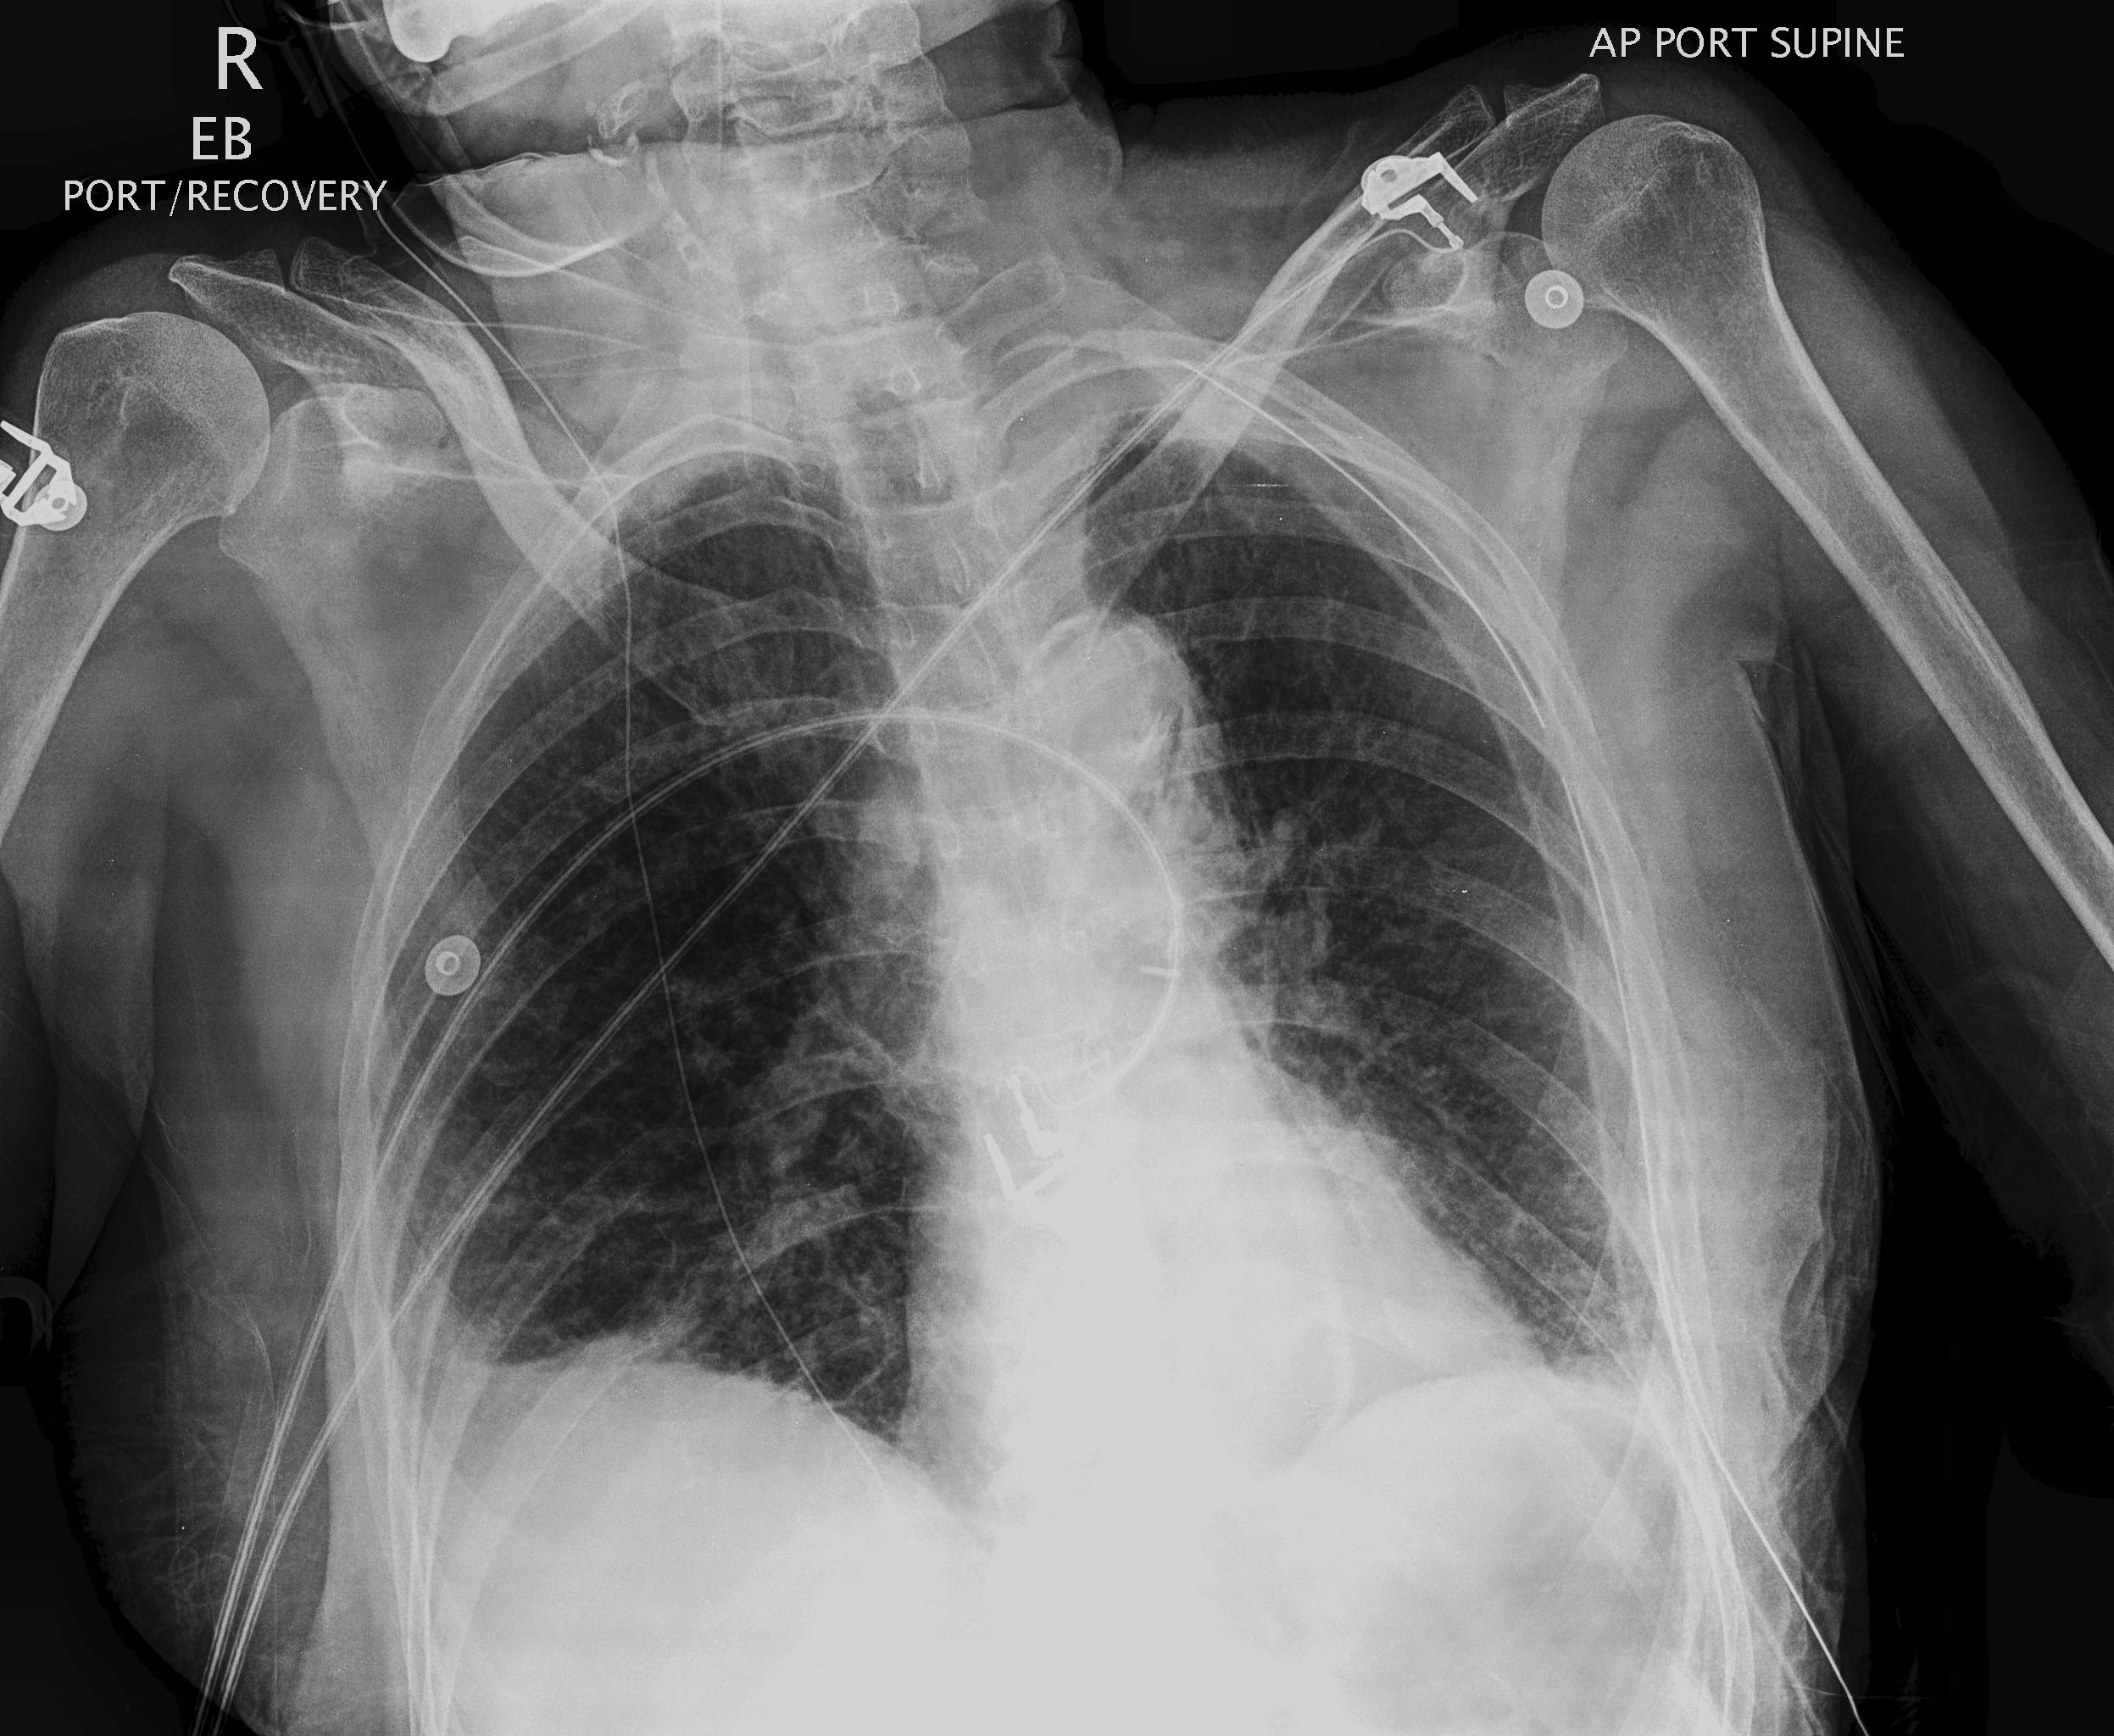Pleural Effusion: (327, 1223, 769, 1673)
